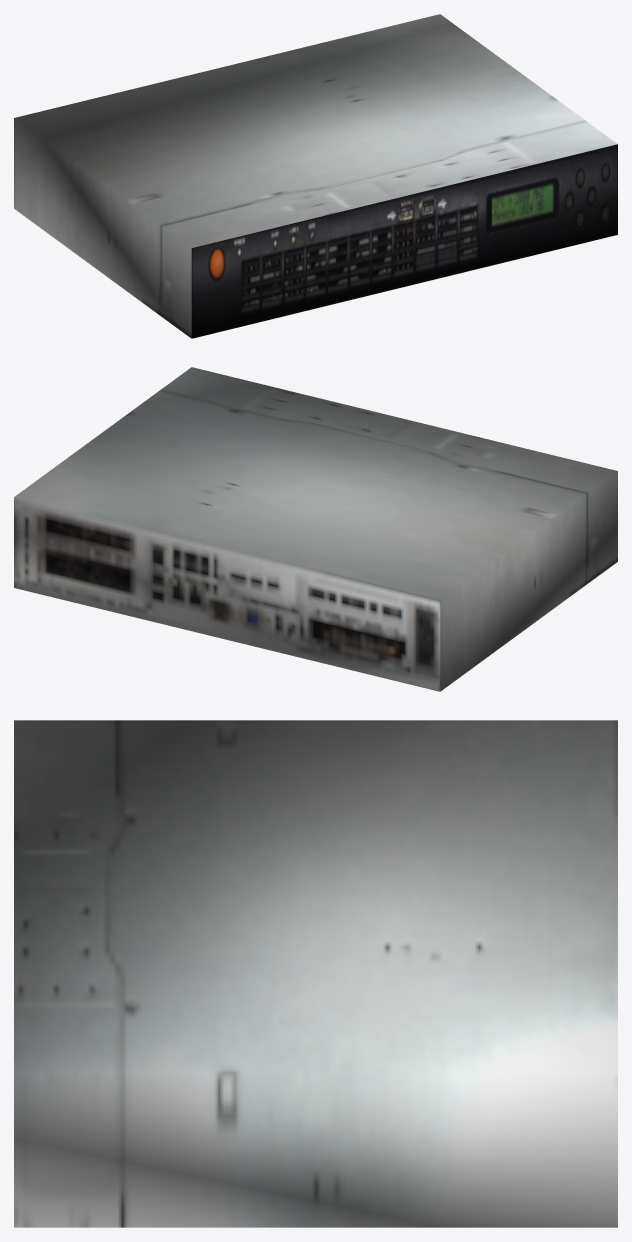
File: server.glb
3 renders of one model, top to bottom at view 1: azimuth 30°, elevation 25°; view 2: azimuth 150°, elevation 25°; view 3: azimuth 270°, elevation 25°, orthographic. The views are drawn at different scales.
Parts seen in each view (by area): view 1: SERVER1; view 2: SERVER1; view 3: SERVER1.
Boxes of the visible parts, bbox=[...] form: SERVER1: bbox=[14, 14, 617, 338]; SERVER1: bbox=[14, 367, 617, 691]; SERVER1: bbox=[14, 720, 617, 1227].
Bounding box in the file's own units: 0.5 × 0.1017 × 0.3612.
Materials: 1 (1 with a texture image).
